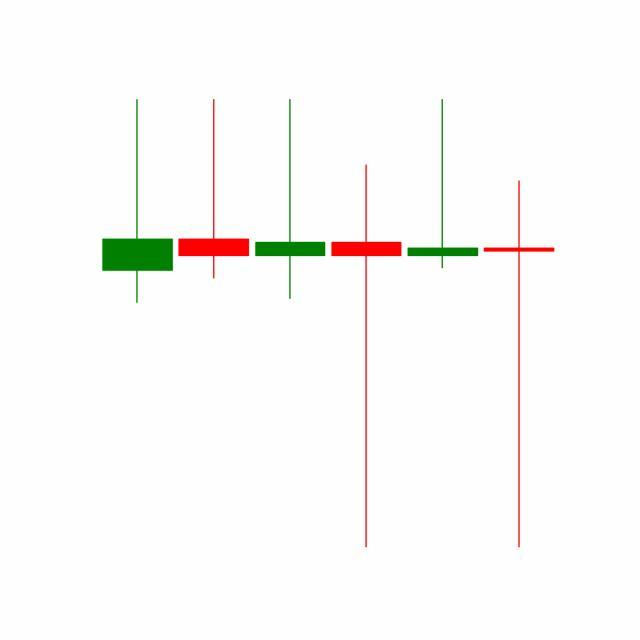Gravestone Doji: (404, 98, 482, 272)
